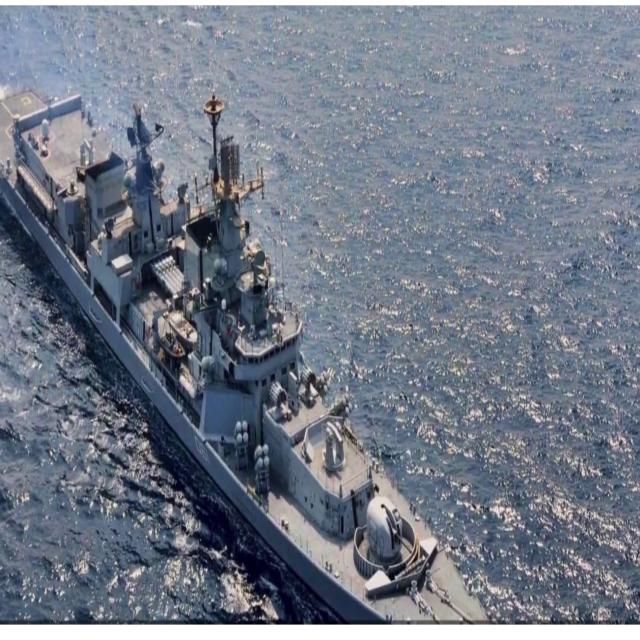OCR: (190, 431, 216, 479)
